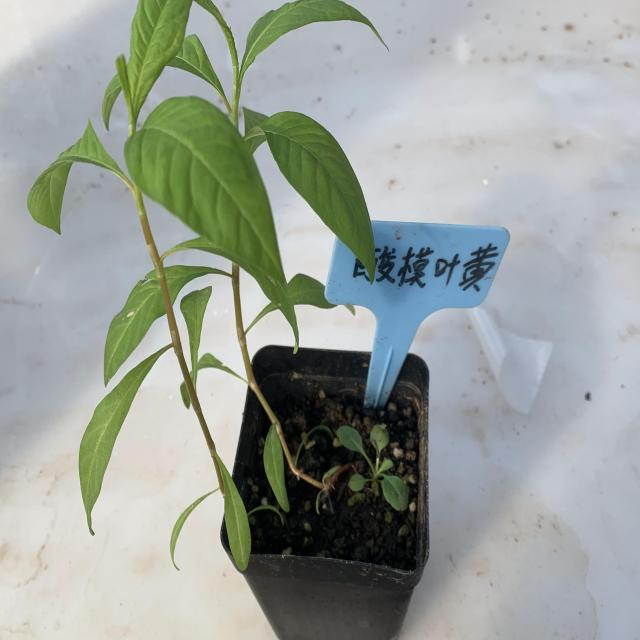white_smart_weed: (29, 0, 360, 493)
